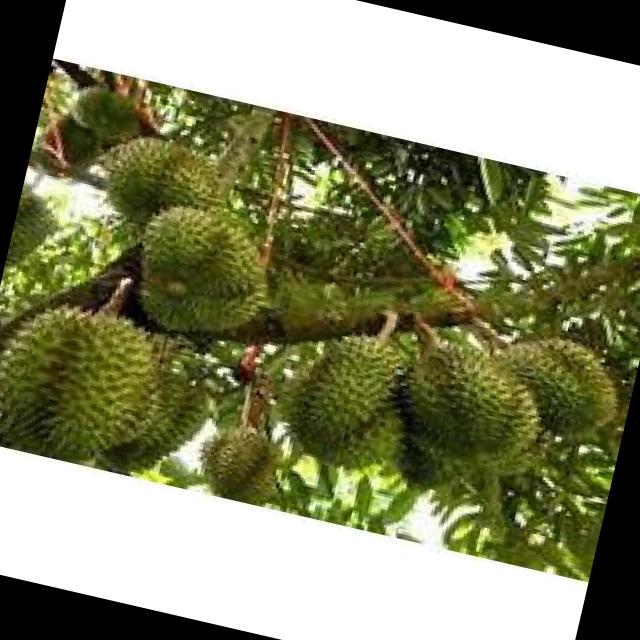fruit: (0, 265, 235, 489), (98, 162, 297, 374), (262, 296, 438, 492), (80, 109, 244, 253), (0, 167, 74, 300)
